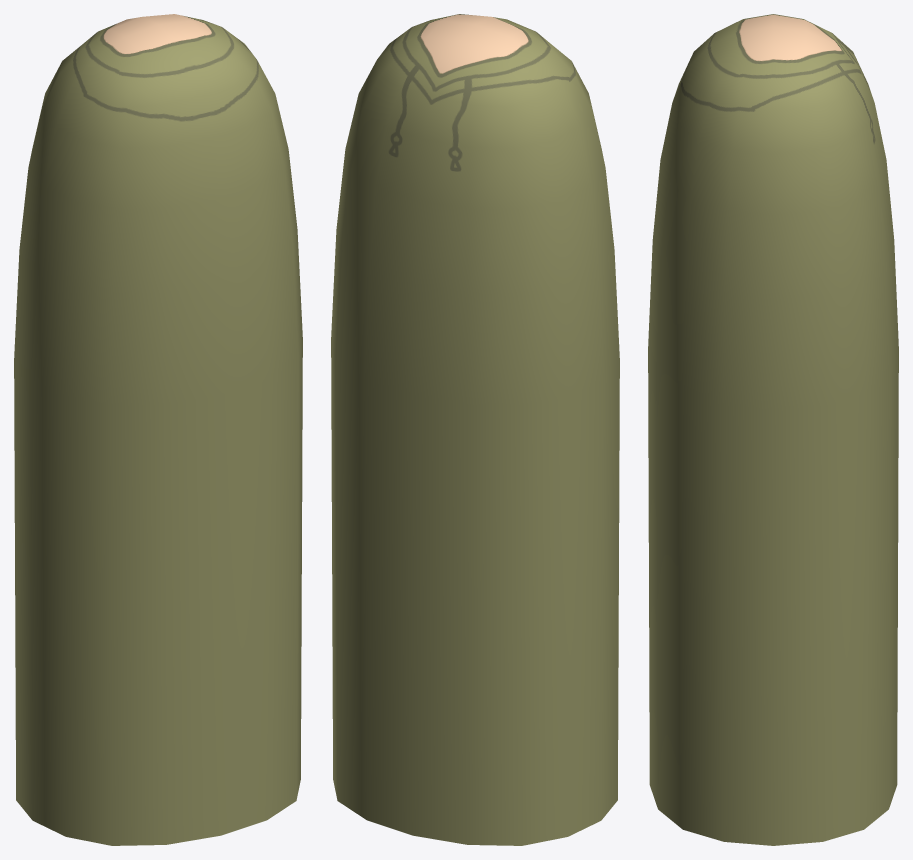
Rendered from Oden_Person_Model3.gltf.
3 views of the same model, side by side, from view 1: azimuth 30°, elevation 25°; view 2: azimuth 150°, elevation 25°; view 3: azimuth 270°, elevation 25° (orthographic).
Visible parts, largest first — view 1: Oden_Person_Model3; view 2: Oden_Person_Model3; view 3: Oden_Person_Model3.
Part boxes in pixels (x1,y1,x2,y2): Oden_Person_Model3: (14,14,302,845); Oden_Person_Model3: (331,14,619,845); Oden_Person_Model3: (648,14,898,845).
Bounding box in the file's own units: 5.63 × 16.14 × 4.84.
1 material, 1 textured.
